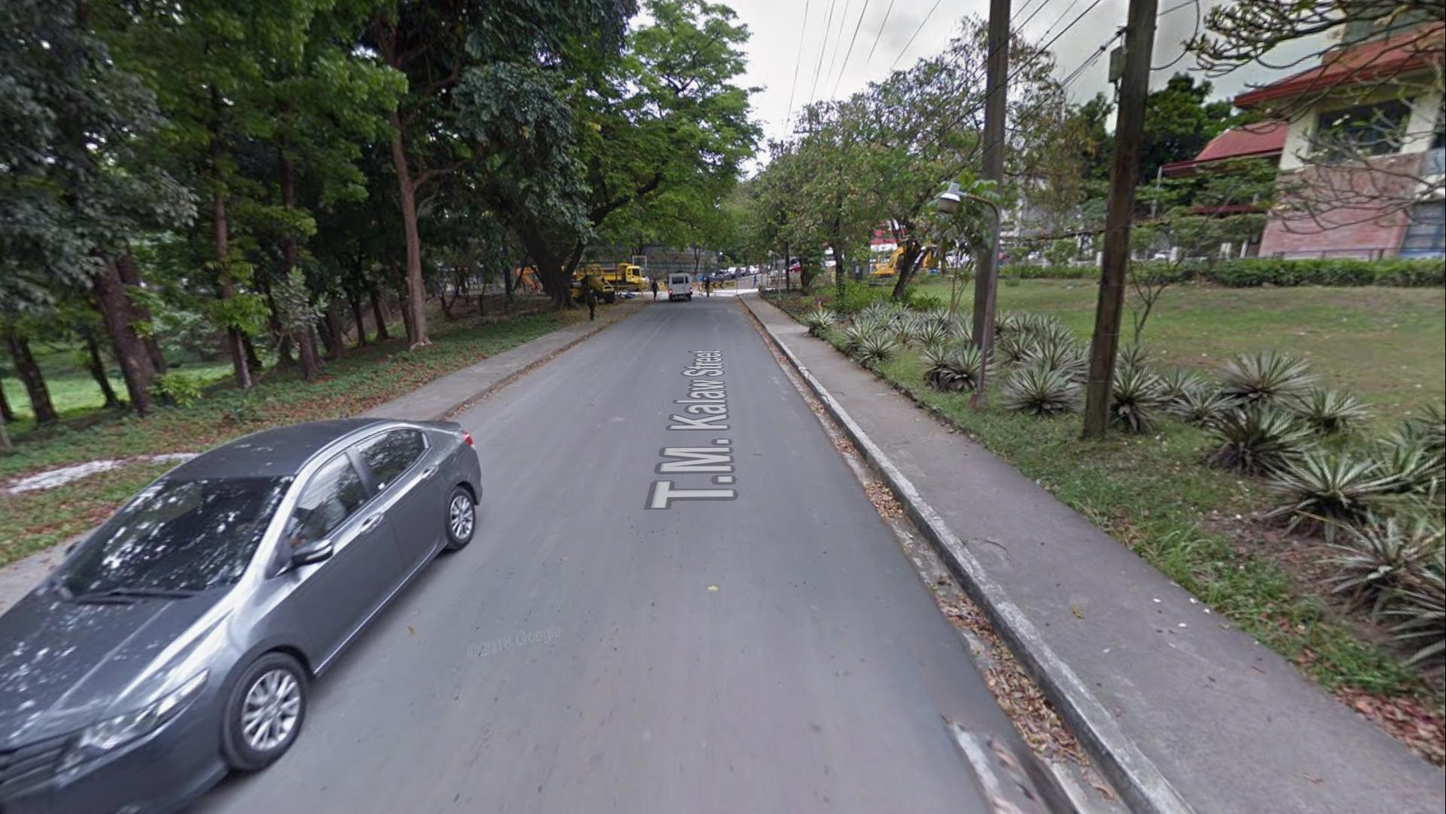pedestrian: (586, 286, 598, 322), (650, 279, 659, 301), (704, 276, 711, 300), (752, 274, 759, 289)
